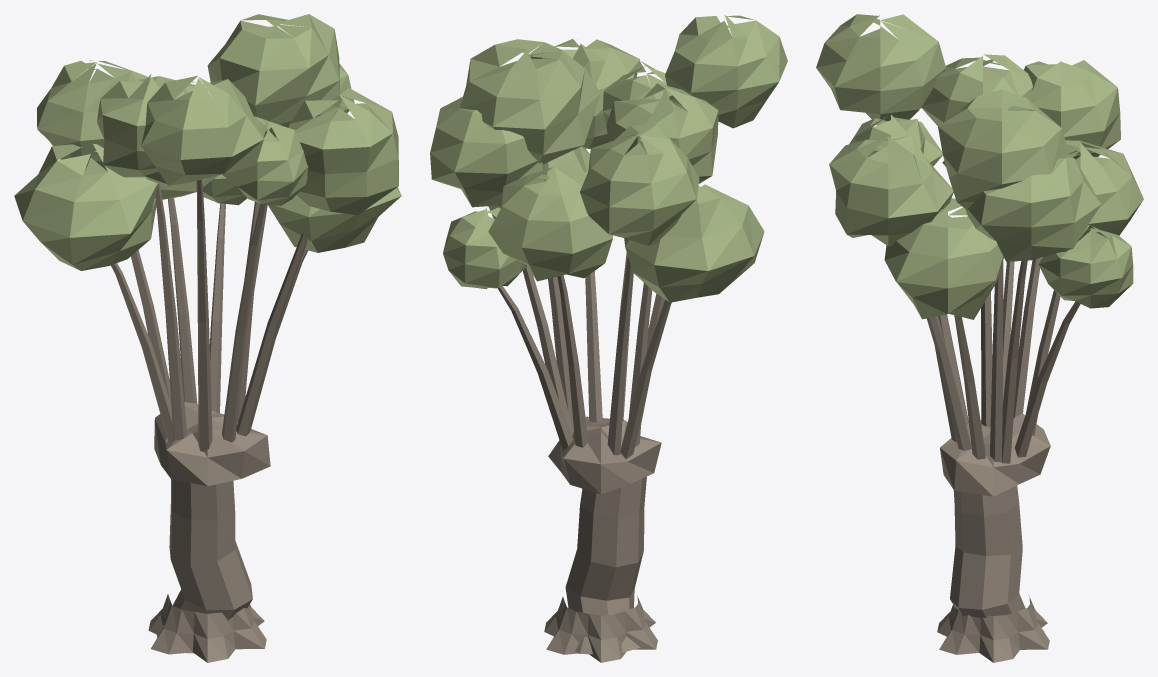
Rendered from temperate-forest-ecology-crack-willow-pollard-41b030b4__3799.glb.
3 renders of one model, left to right at view 1: azimuth 30°, elevation 25°; view 2: azimuth 150°, elevation 25°; view 3: azimuth 270°, elevation 25°, orthographic. The views are drawn at different scales.
Visible parts, largest first — view 1: crack-willow-pollard; view 2: crack-willow-pollard; view 3: crack-willow-pollard.
Part boxes in pixels (x1,y1,x2,y2): crack-willow-pollard: [14, 14, 401, 662]; crack-willow-pollard: [430, 14, 787, 662]; crack-willow-pollard: [816, 14, 1143, 662].
Size of the model in its own units: 4.58 by 8.29 by 4.15.
